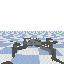drone: (10, 38, 58, 61)
